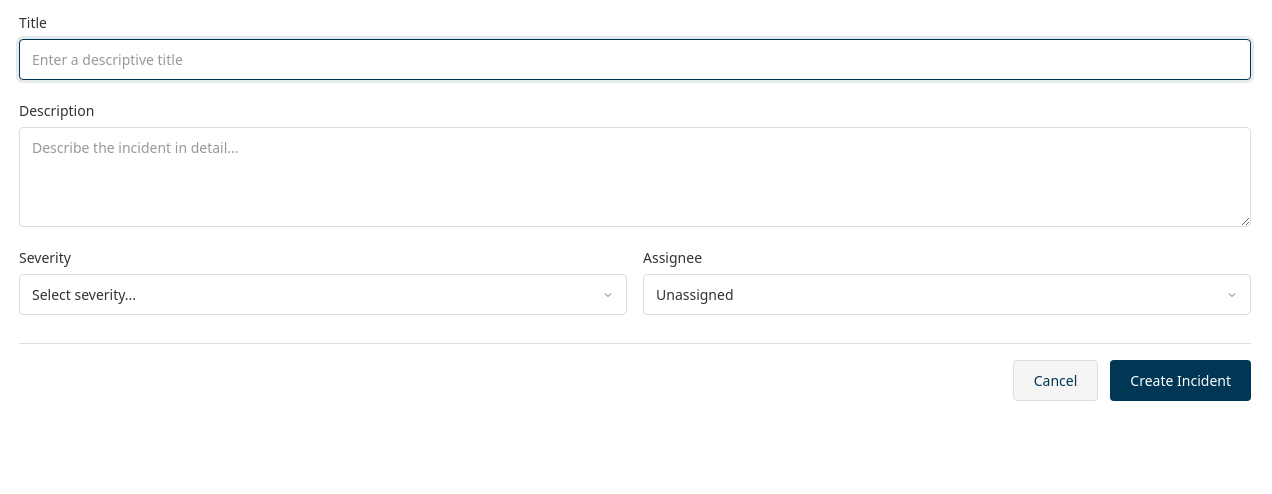
Test case: IncidentForm › Validation › shows error when title is too short
Type "AB" into the field labelled "Title" at (635, 60), box [19, 39, 1251, 80]
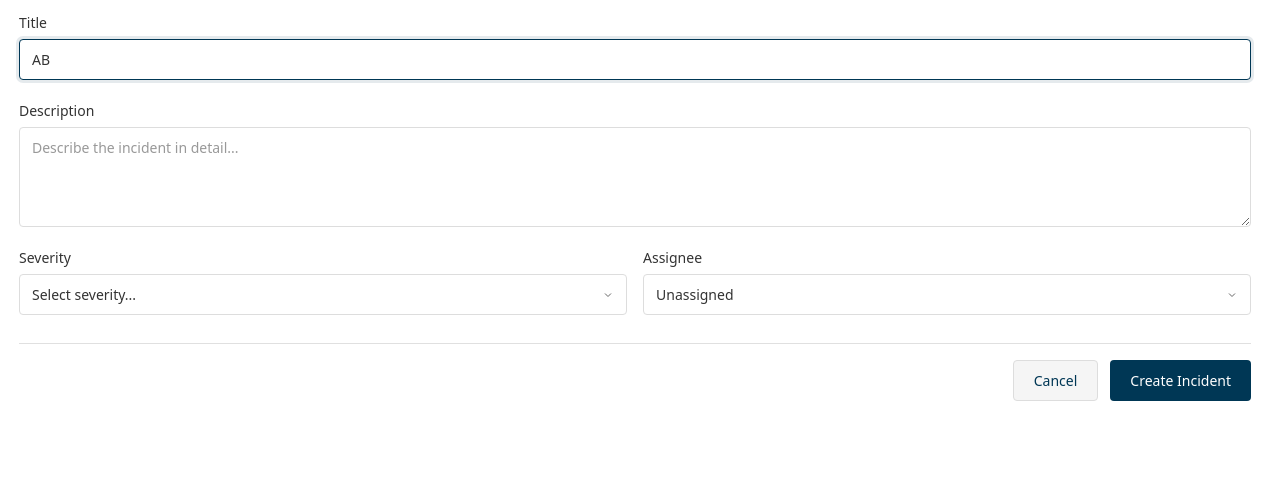
Click the button "Create Incident" at (1181, 380), box [1110, 360, 1251, 401]
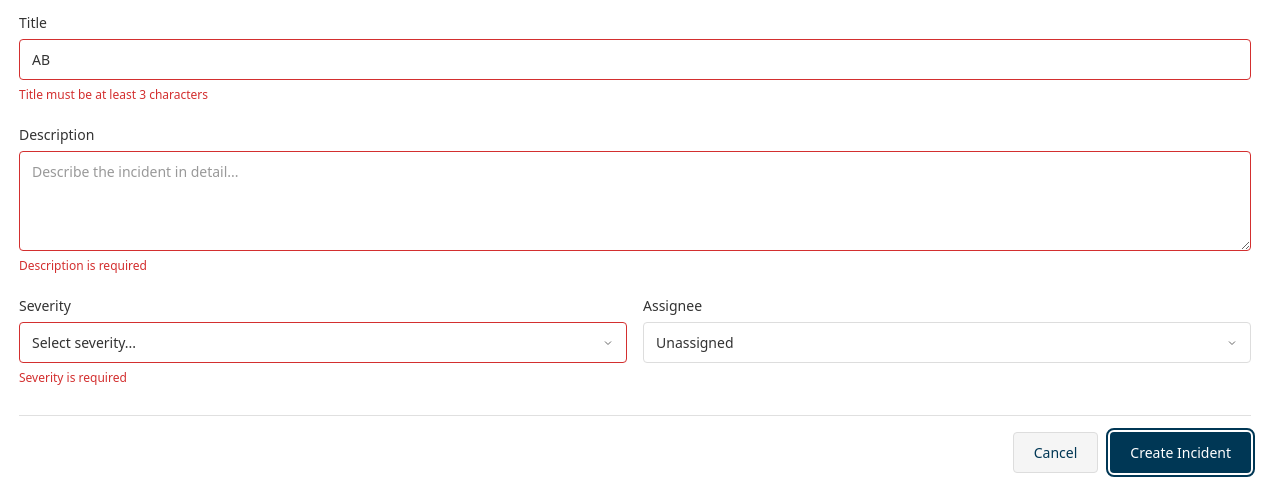
Expected: the text "Title must be at least 3 characters" is shown, [19, 86, 208, 103]
